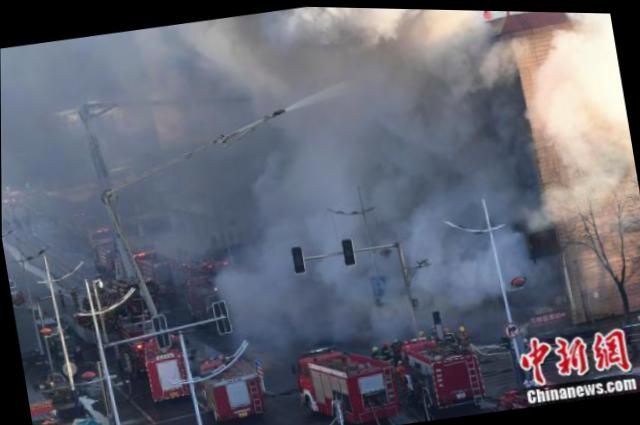smoke: (343, 6, 515, 214), (252, 120, 359, 246), (219, 4, 355, 92), (408, 201, 490, 300), (547, 42, 626, 144), (224, 259, 294, 319)
